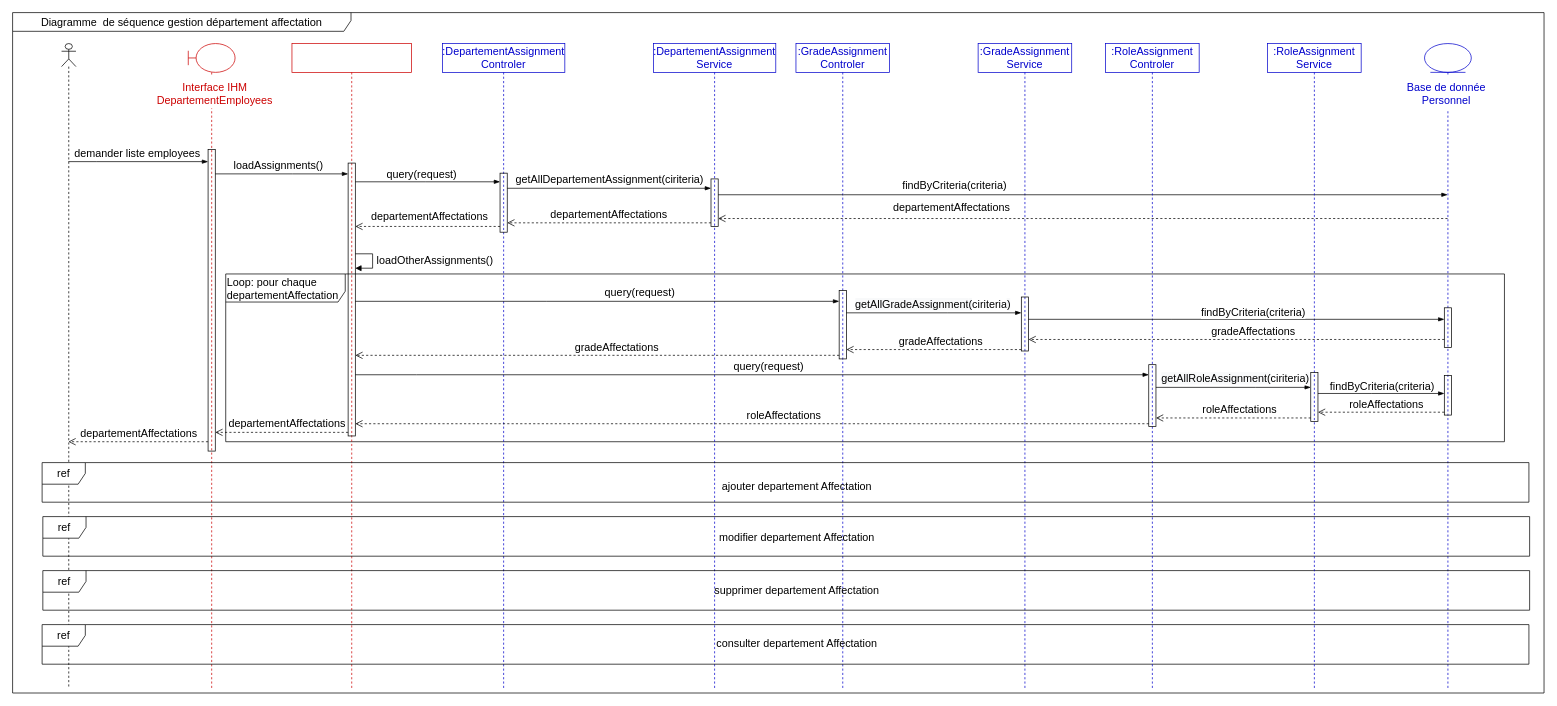
Image size: 1557x706. Some labels were removed from this diagram. Here are the shapes that lost their labels. From the top down, the box of each, then its label:
(61, 43, 76, 688): Administrateur
(291, 43, 411, 688): :Serveur d'application DepartementEmployees
